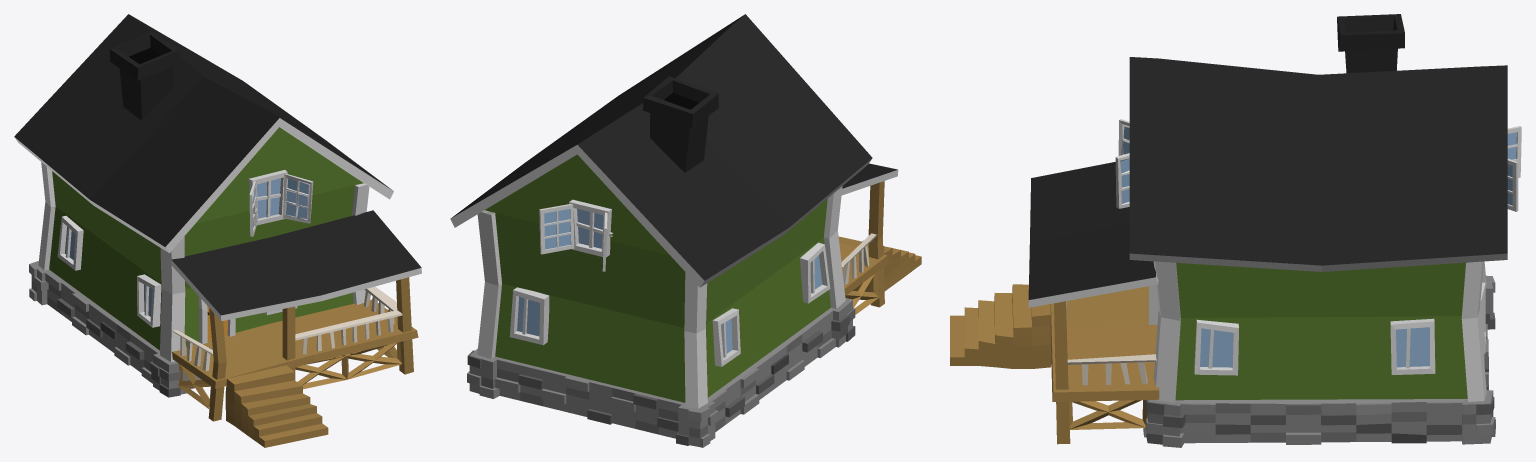
Rendered from wonky green house.fbx.
3 renders of one model, left to right at view 1: azimuth 30°, elevation 25°; view 2: azimuth 150°, elevation 25°; view 3: azimuth 270°, elevation 25°, orthographic. The views are drawn at different scales.
Parts seen in each view (by area): view 1: wonky blue house_LOD0; view 2: wonky blue house_LOD0; view 3: wonky blue house_LOD0.
Boxes of the visible parts, left/top/right/bottom form: wonky blue house_LOD0: left=14, top=14, right=421, bottom=447; wonky blue house_LOD0: left=450, top=14, right=921, bottom=447; wonky blue house_LOD0: left=950, top=14, right=1521, bottom=447.
Size of what is drawn, in the model's own units: 9.79 by 10.75 by 16.41.
